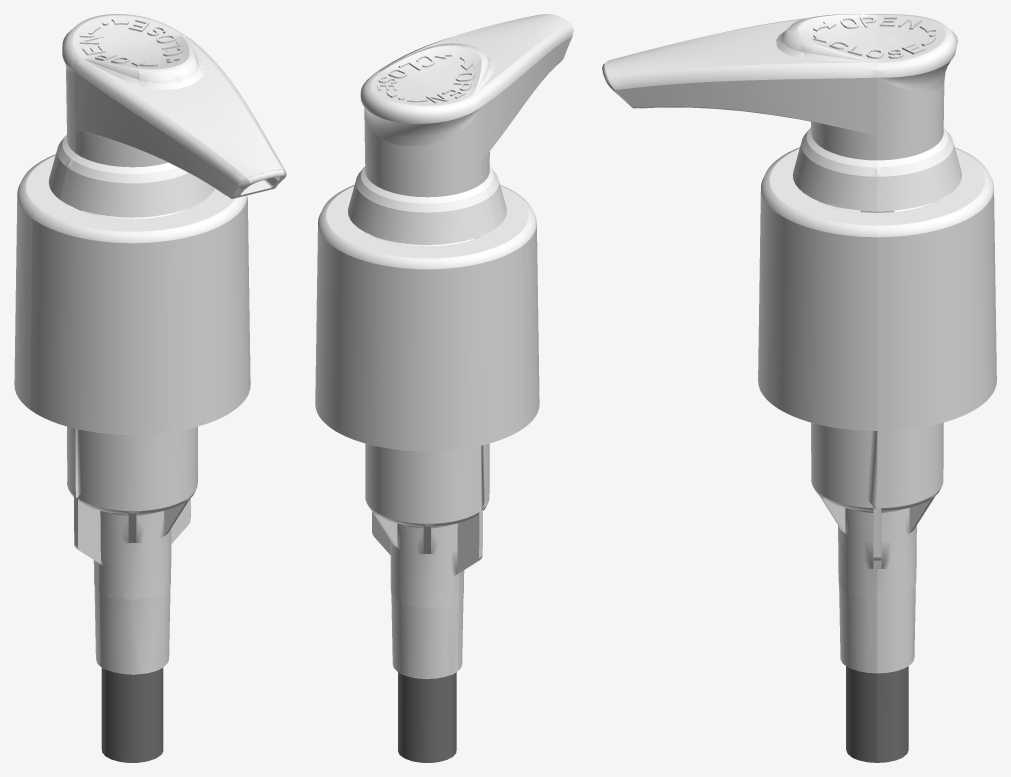
The model's file is EuroFlow (1).glb.
3 views of the same model, side by side, from view 1: azimuth 30°, elevation 25°; view 2: azimuth 150°, elevation 25°; view 3: azimuth 270°, elevation 25° (orthographic). The views are drawn at different scales.
Parts seen in each view (by area): view 1: EuroFlow; view 2: EuroFlow; view 3: EuroFlow.
Part boxes in pixels (x1,y1,x2,y2): EuroFlow: [14, 14, 286, 762]; EuroFlow: [315, 14, 573, 762]; EuroFlow: [602, 14, 996, 762].
Size of the model in its own units: 27.43 by 91.19 by 45.34.
Materials: 2 (2 with a texture image).
